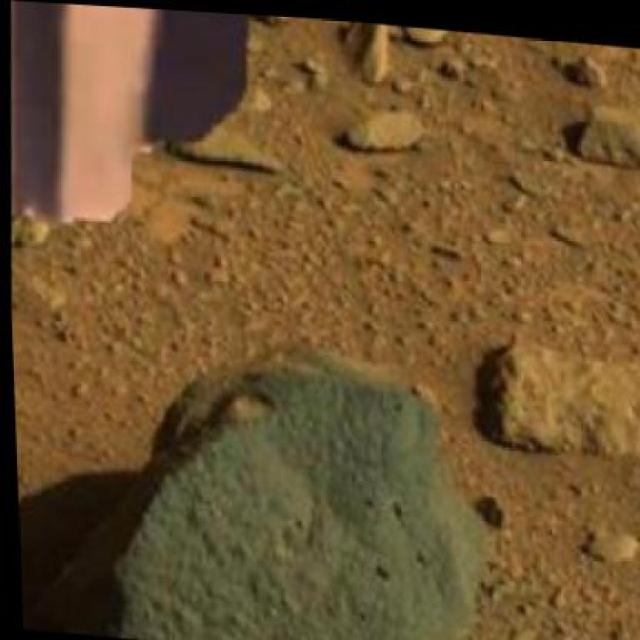rock: (29, 216, 517, 638), (468, 225, 638, 348), (569, 36, 640, 82)
